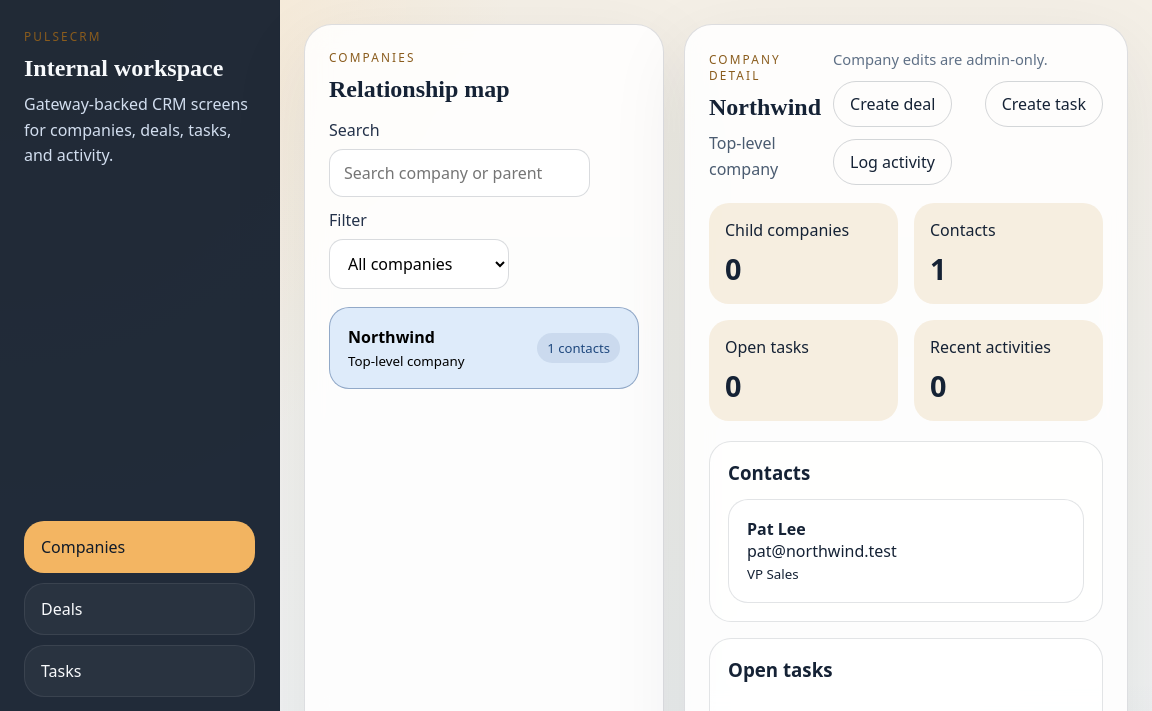
Scenario: navigates between main workspaces after sign-in
Expected: the heading "Northwind" is shown, [709, 95, 821, 119]
Click the button "Deals".
click(140, 609)  # box [24, 583, 255, 635]
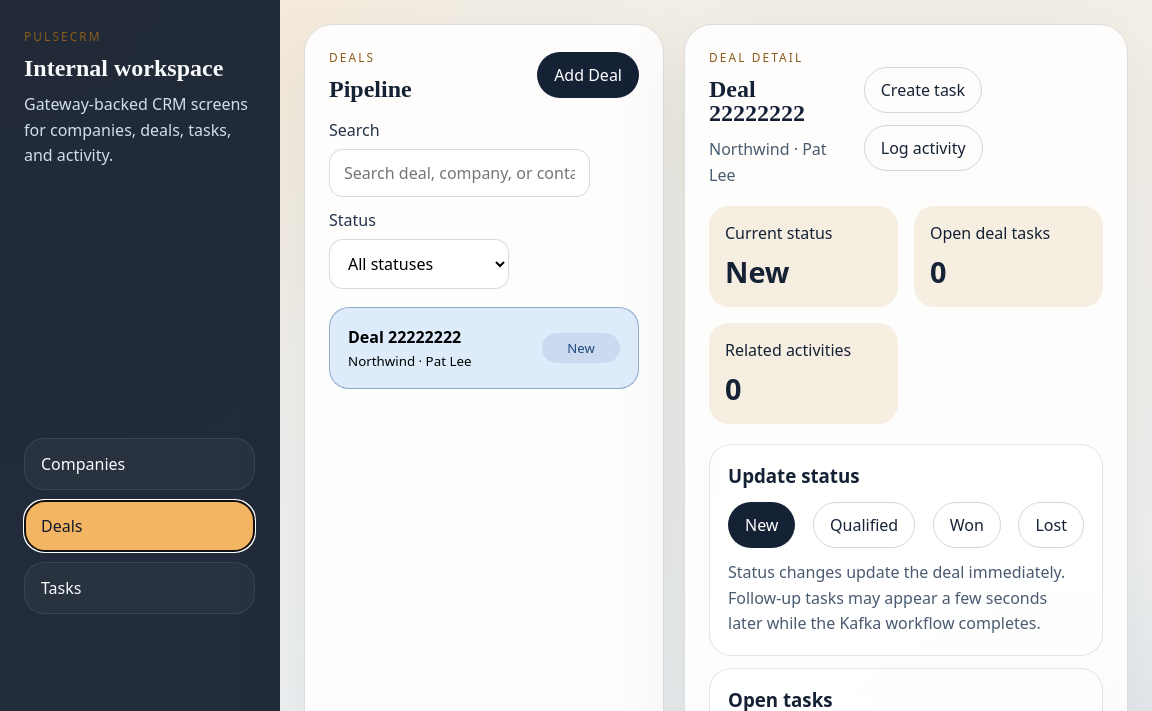
Expected: the heading "Deal 22222222" is shown, [709, 76, 805, 126]
Click the button "Tasks".
click(140, 588)  # box [24, 562, 255, 614]
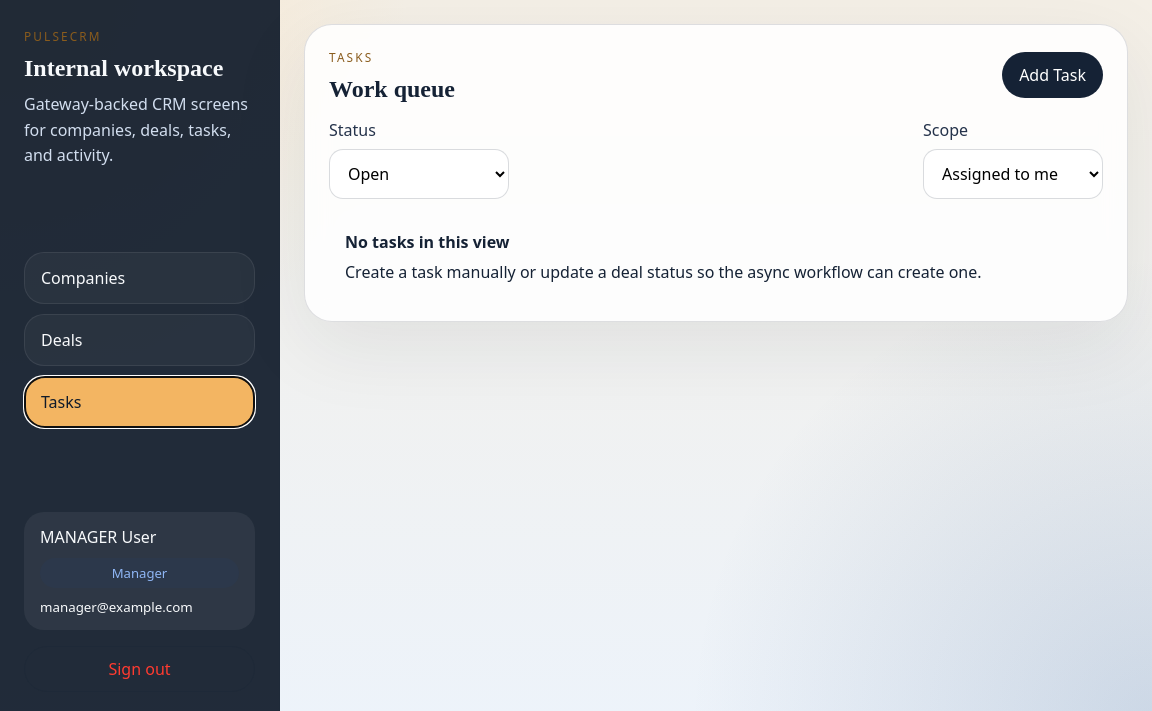
Expected: the heading "Work queue" is shown, [329, 77, 455, 101]
